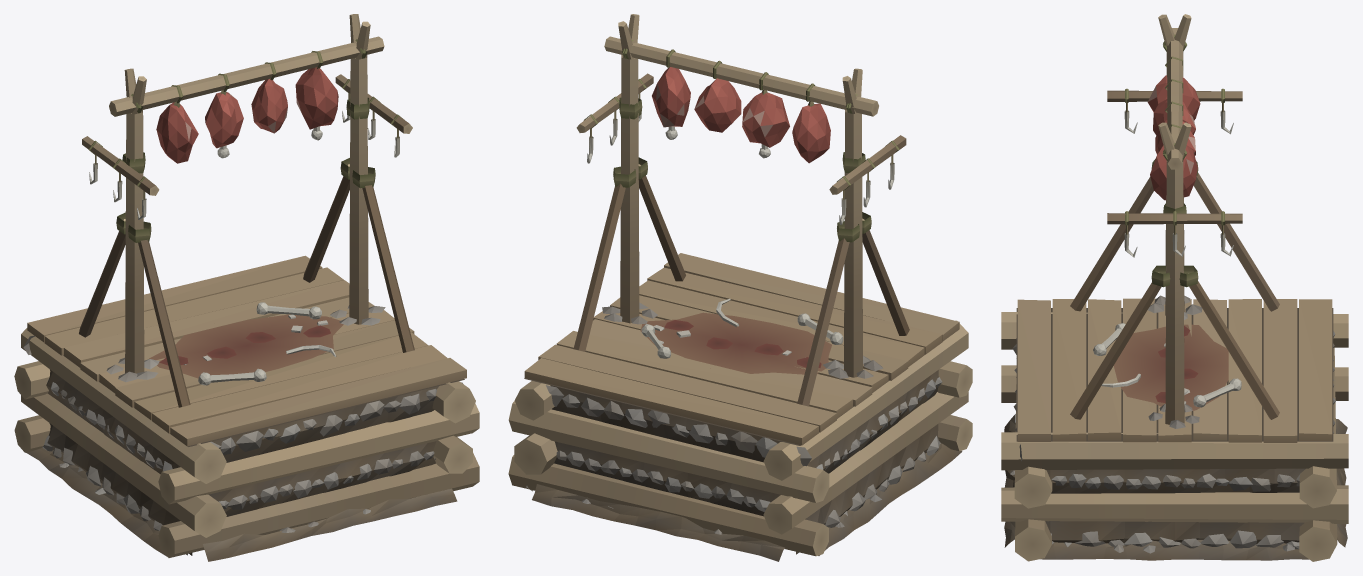
The model's file is bait_rack_a.glb.
3 views of the same model, side by side, from view 1: azimuth 30°, elevation 25°; view 2: azimuth 150°, elevation 25°; view 3: azimuth 270°, elevation 25° (orthographic).
Visible parts, largest first — view 1: Base, Meat3, Meat0, Store2, Meat1, Store3, Meat2; view 2: Base, Meat1, Meat3, Meat2, Store2, Meat0, Store3; view 3: Base, Store3, Store2, Meat3, Meat0, Meat1.
Boxes of the visible parts, x1,y1,x2,y2 form: Base: (14,14,479,561); Meat3: (295,67,338,140); Meat0: (156,102,198,163); Store2: (82,136,159,219); Meat1: (205,90,243,158); Store3: (335,74,412,157); Meat2: (251,78,287,133); Base: (508,14,972,561); Meat1: (742,90,789,158); Meat3: (652,67,690,139); Meat2: (694,78,741,132); Store2: (829,135,906,224); Meat0: (792,101,830,163); Store3: (576,73,653,163); Base: (1001,14,1348,561); Store3: (1107,203,1242,257); Store2: (1107,88,1242,134); Meat3: (1150,145,1197,200); Meat0: (1147,75,1200,119); Meat1: (1153,99,1195,135).
Bounding box in the file's own units: 1.95 × 2.6 × 1.95.
